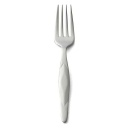Fork: (46, 3, 84, 126)
